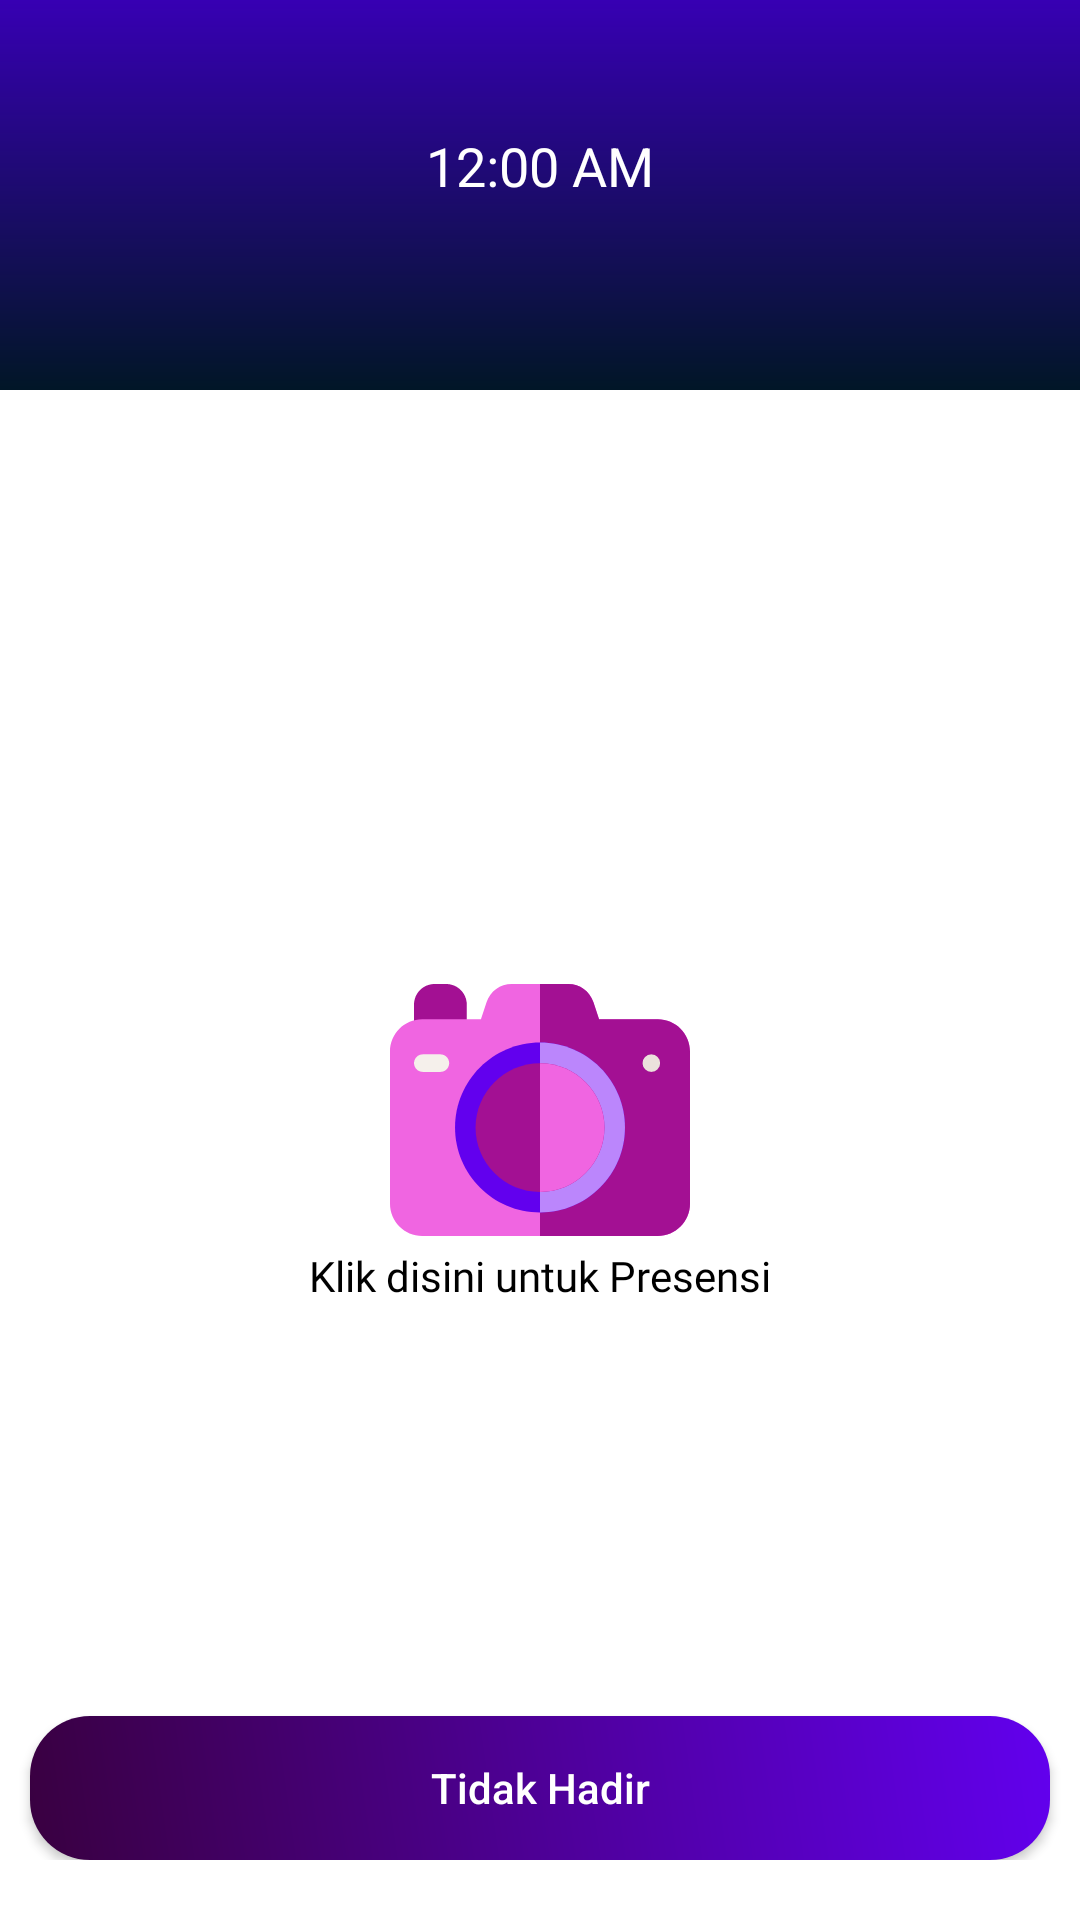

Where to tap for icons on this 1080 × 1920 app screen, as point (x, y):
camera: point (540, 1110)
